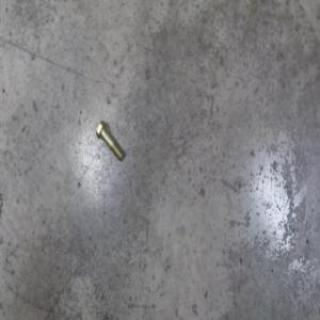Bolttrack_idkeyframe: (95, 118, 123, 162)
